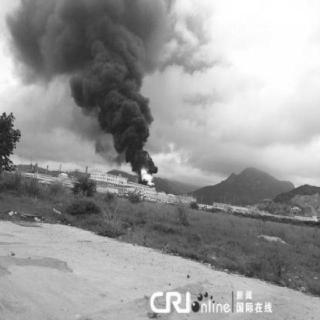Smoke: (24, 3, 166, 79)
